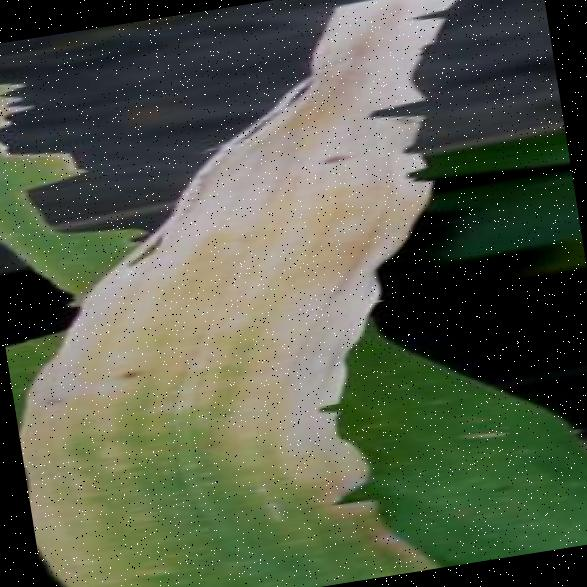Bacteria_Leaf_Blight: (0, 188, 370, 587)
